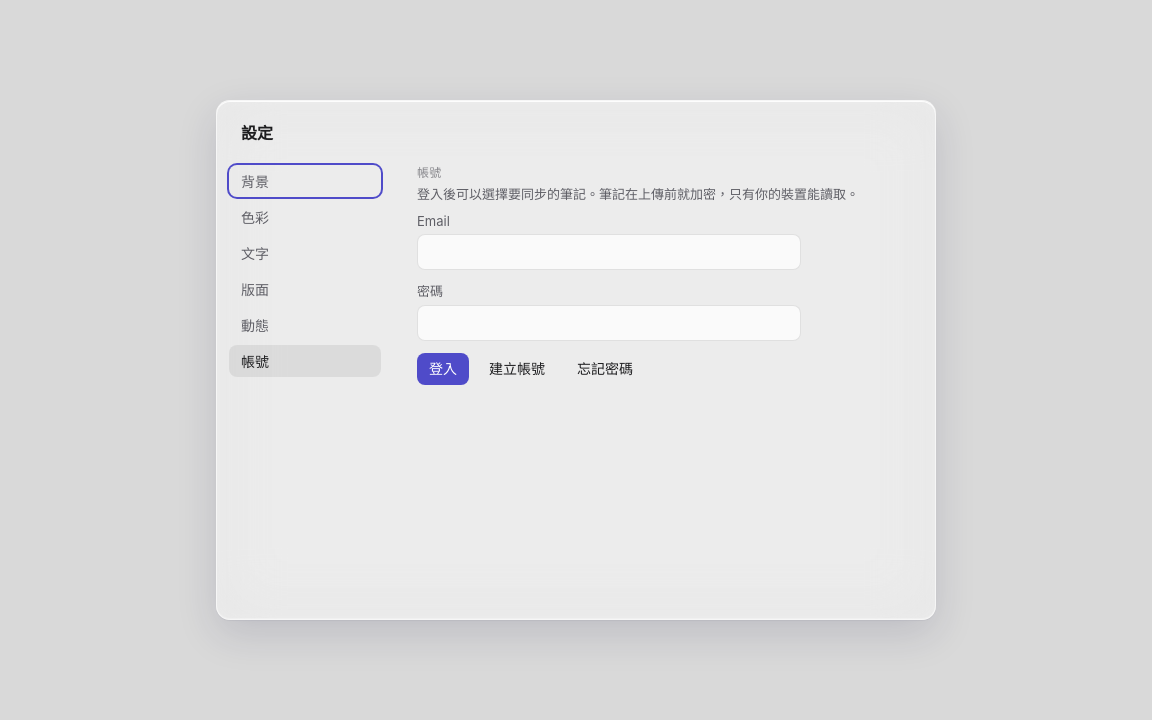
Scenario: 設定 · 帳號 › wrong password shows an error; 忘記密碼 sends the reset email
The width and height of the screenshot is (1152, 720).
Expected: the element "帳號" is shown, [417,165,911,393]
In the field labelled "Email": (609, 252) [417,234,801,270], type "a@example.com"
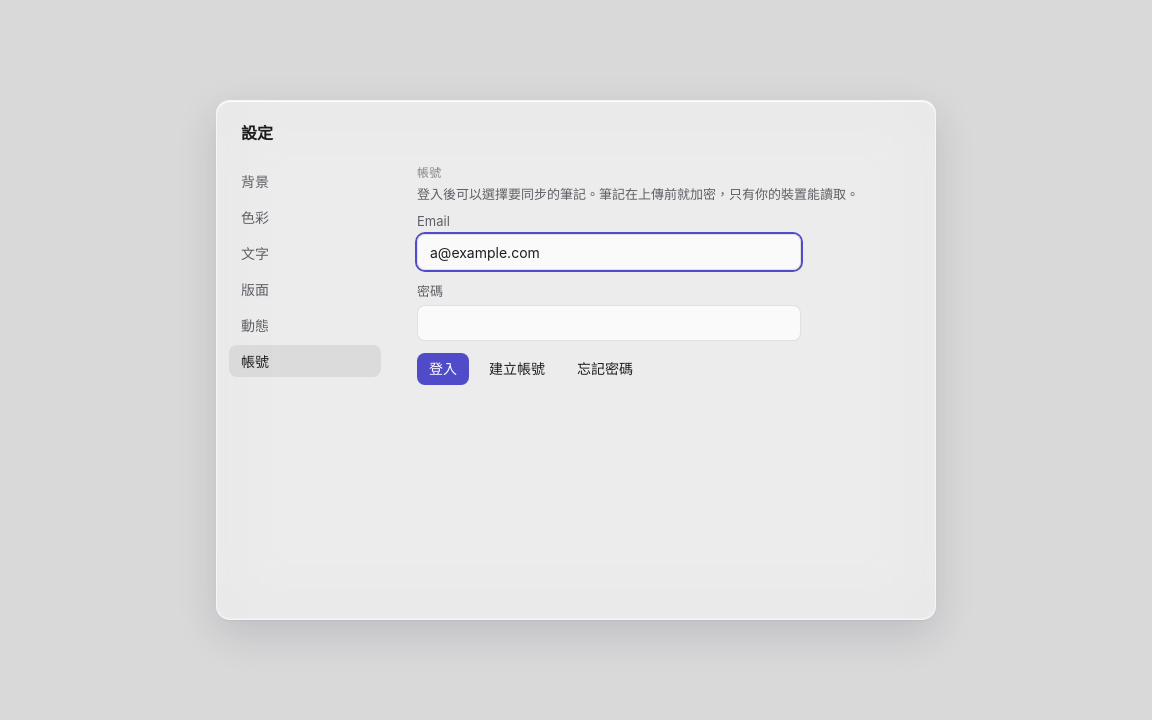
In the password field labelled "密碼": (609, 323) [417,305,801,341], type "nope-nope"
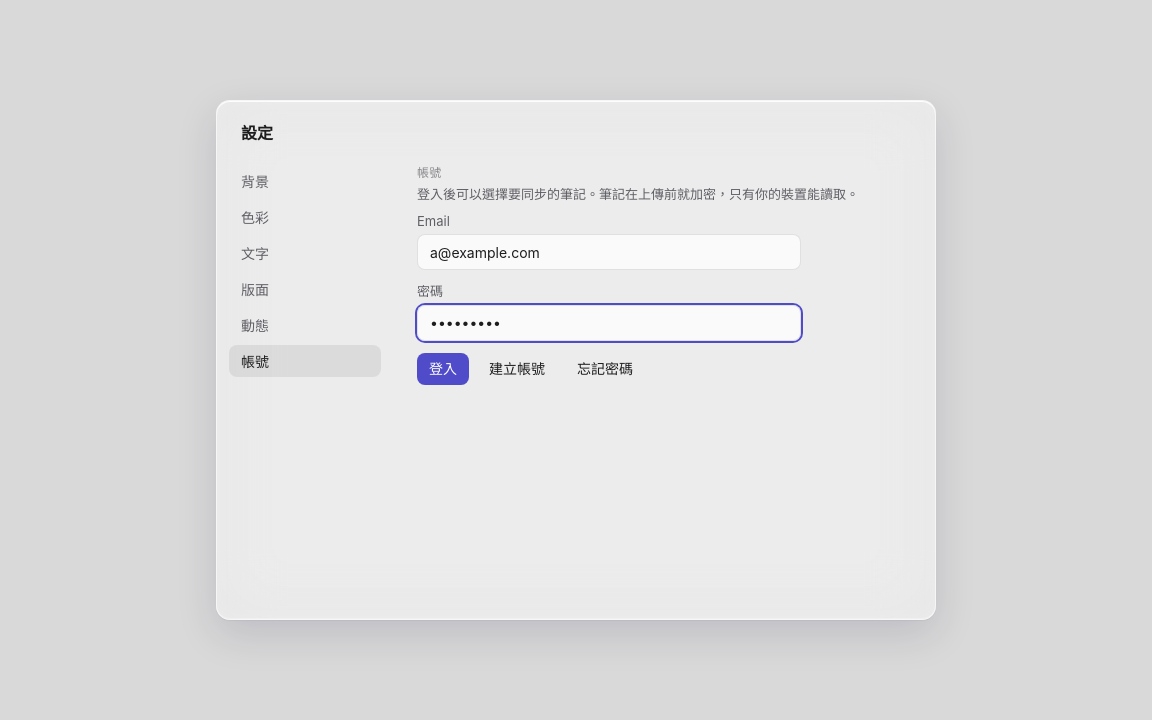
Click the button "登入": (443, 369) [417,353,469,385]
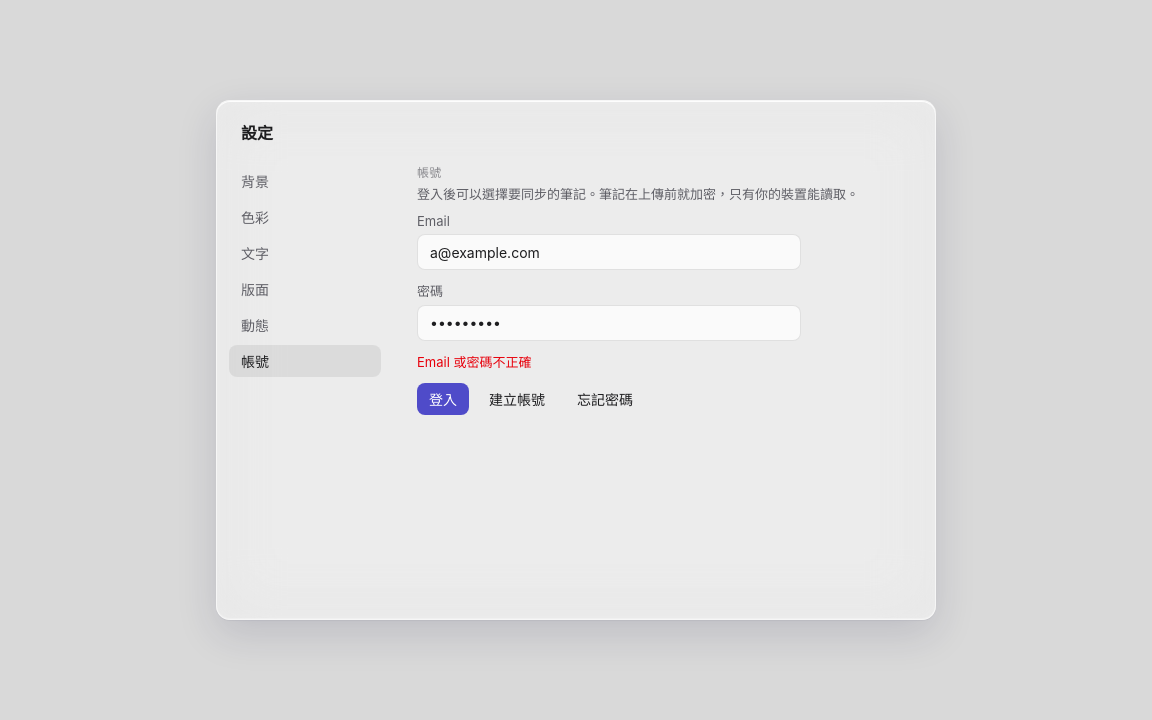
Expected: the message reads "Email 或密碼不正確", [417,354,532,370]
Click the button "忘記密碼": (605, 399) [565,383,645,415]
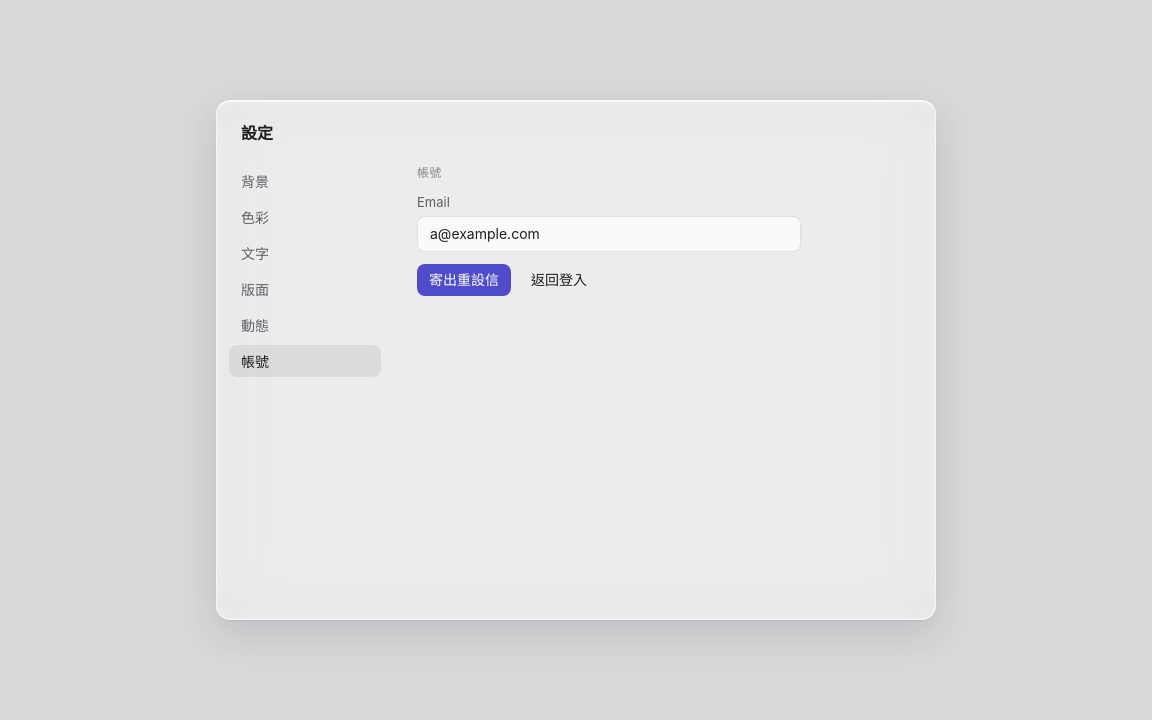
Expected: the label labelled "密碼" is gone
Click the button "寄出重設信": (464, 280) [417,264,511,296]
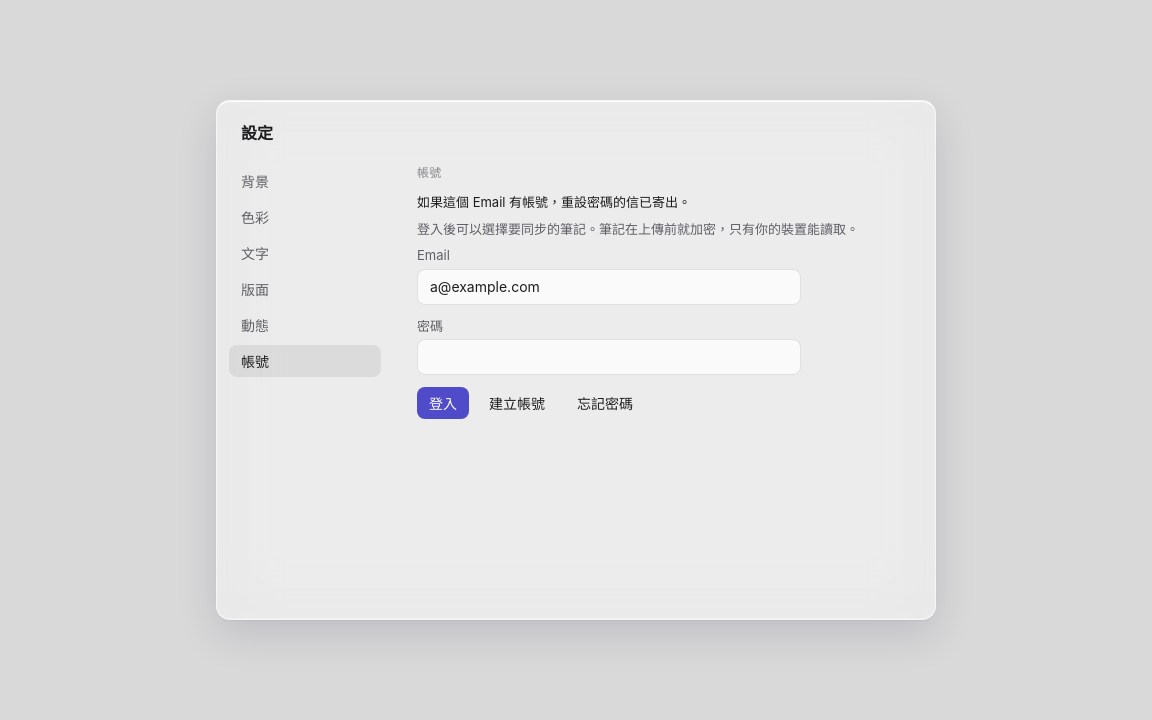
Expected: the message shows "重設密碼的信已寄出", [417,194,691,210]
